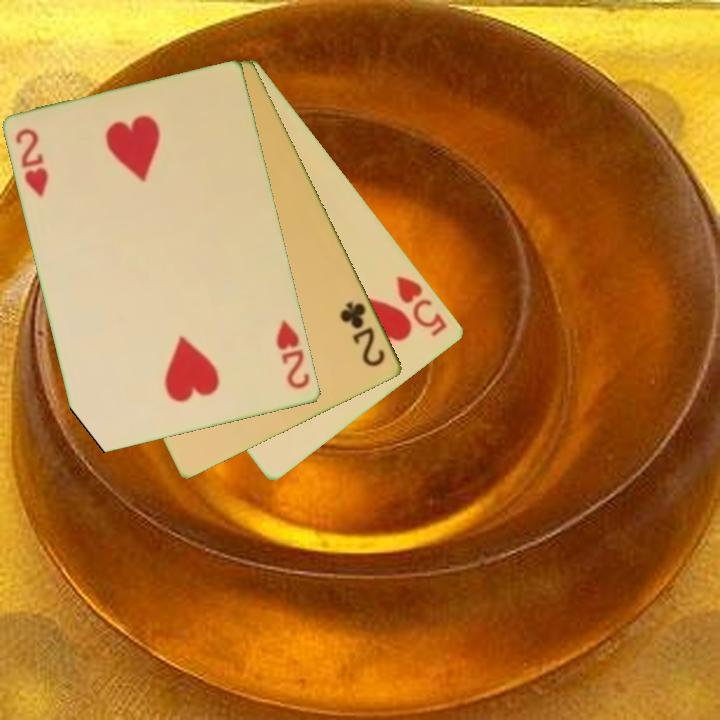2c: (336, 298, 389, 370)
2h: (273, 316, 313, 392), (12, 125, 52, 200)
5h: (393, 272, 451, 340)
